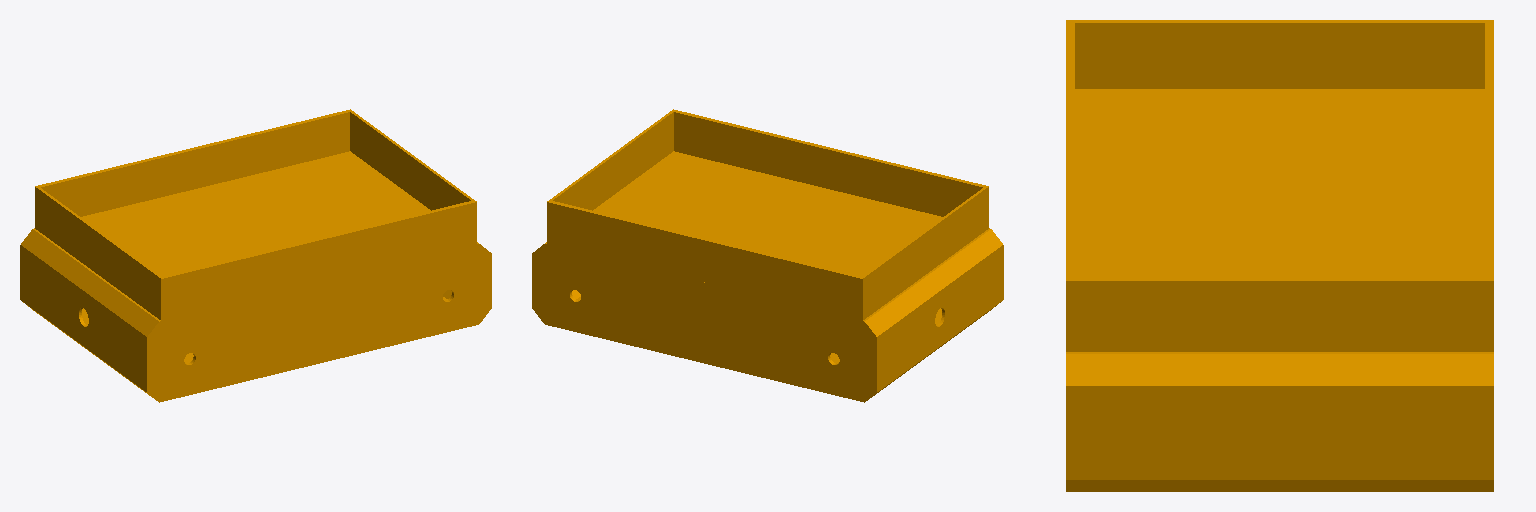
The robot description file, URDF, robot "tram":
<?xml version="1.0" ?>
<robot name="tram">
    <material name="red">
        <color rgba="1 0 0 1.0" />
    </material>

    <link name="body">
        <visual>
            <origin rpy="0.0 0 0" xyz="0 0 0"/>
            <geometry>
                <mesh filename="package://space_challenger_simulation/meshes/tram_body.stl" scale="0.001 0.001 0.001"/>
                <material name="red" />
            </geometry>
        </visual>
        <collision>
            <origin rpy="0 0 0" xyz="0 0 0" />
            <geometry>
                <mesh filename="package://space_challenger_simulation/meshes/tram_body.stl" scale="0.001 0.001 0.001"/>
            </geometry>
        </collision>
    <inertial>
      <origin xyz="0.34 0.17 0.1" rpy="0 0 0"/>
      <mass value="5"/>
      <inertia ixx="1.0e-02" ixy="1.0e-02" ixz="1.0e-02" 
               iyx="0.0" iyy="1.0e-02" iyz="1.0e-02" 
               izx="0.0" izy="0.0" izz="1.0e-02" />
    </inertial>
    </link>

    



<gazebo>
      <!--plugin name="gazebo_ros_control" filename="libgazebo_ros_control.so">
          <robotNamespace>/simple_tracked</robotNamespace>
          <robotSimType>gazebo_ros_control/DefaultRobotHWSim</robotSimType>
      </plugin-->

        <!--plugin filename="libKeysToCmdVelPlugin.so" name="keyboard_control">
          <publish_as_twist>true</publish_as_twist>
          <cmd_vel_topic>~/simple_tracked/cmd_vel_twist</cmd_vel_topic>
      </plugin-->

          <!--plugin filename="libSpaceChallengerPlugin.so" name="simple_tracked_vehicle">
          <body>base_link</body>
          <left_track>left_track</left_track>
          <right_track>right_track</right_track>
          <left_flipper>front_left_flipper</left_flipper>
          <left_flipper>rear_left_flipper</left_flipper>
          <right_flipper>front_right_flipper</right_flipper>
          <right_flipper>rear_right_flipper</right_flipper>
          <track_mu>2</track_mu>
          <track_mu2>0.5</track_mu2>
      </plugin-->
</gazebo>

    <!--transmission name="tran1">
          <type>transmission_interface/SimpleTransmission</type>
          <joint name="front_left_flipper_j">
          <hardwareInterface>hardware_interface/PositionJointInterface</hardwareInterface>
          </joint>
          <actuator name="motor1">
          <hardwareInterface>hardware_interface/PositionJointInterface</hardwareInterface>
          <mechanicalReduction>1</mechanicalReduction>
          </actuator>
      </transmission>

      <transmission name="tran2">
          <type>transmission_interface/SimpleTransmission</type>
          <joint name="front_right_flipper_j">
          <hardwareInterface>hardware_interface/PositionJointInterface</hardwareInterface>
          </joint>
          <actuator name="motor2">
          <hardwareInterface>hardware_interface/PositionJointInterface</hardwareInterface>
          <mechanicalReduction>1</mechanicalReduction>
          </actuator>
      </transmission-->

</robot>

--- Render facts (derived) ---
The picture shows the robot from 3 angles, left to right: view 1: azimuth 30°, elevation 25°; view 2: azimuth 150°, elevation 25°; view 3: azimuth 270°, elevation 25°; orthographic projection.
Model tram with 1 links and 0 joints (none), rooted at body, posed all joints at 0.
Visible links, largest first — view 1: body; view 2: body; view 3: body.
Boxes of the visible links, x1,y1,x2,y2 form: body: [20, 109, 491, 402]; body: [532, 109, 1003, 402]; body: [1066, 20, 1493, 491].
Size in the robot's own frame: 0.6 by 0.382 by 0.205 metres.
Meshes: 1 distinct files referenced, 1 mesh visuals loaded (1 binary STL).
